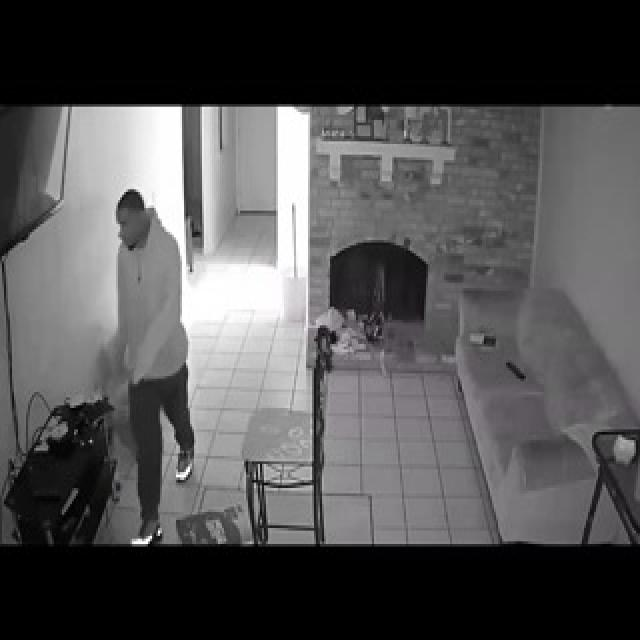thief: (107, 164, 191, 332)
